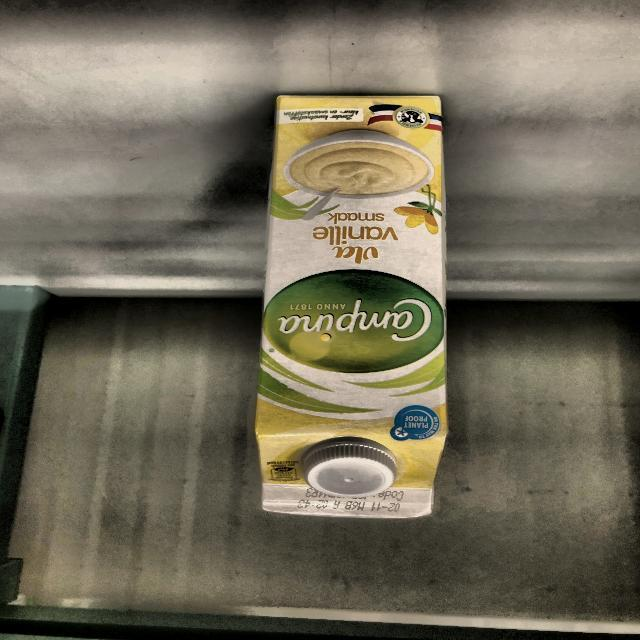cardboard: (255, 94, 450, 520)
